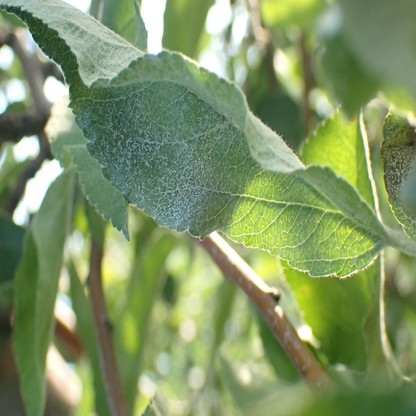powder: (74, 81, 242, 231), (0, 0, 141, 83), (130, 49, 237, 118), (382, 118, 416, 235), (246, 113, 301, 171)
